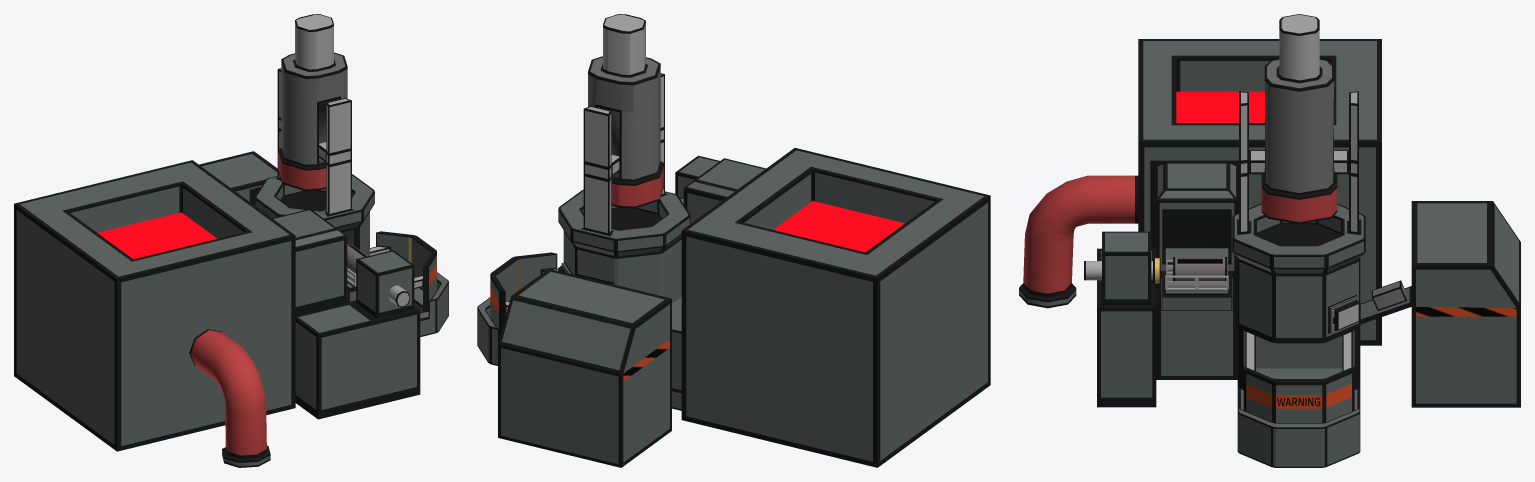
Rendered from Thumper Machine.fbx.
3 renders of one model, left to right at view 1: azimuth 30°, elevation 25°; view 2: azimuth 150°, elevation 25°; view 3: azimuth 270°, elevation 25°, orthographic. The views are drawn at different scales.
Parts seen in each view (by area): view 1: Mould machine, Piston, refinery lava, finished piece tray; view 2: Mould machine, Piston, refinery lava, finished piece tray; view 3: Mould machine, Piston, finished piece tray, Molten pit hatch, refinery lava, Metal containers, Ingot, Piston for insertion.
Boxes of the visible parts, x1,y1,x2,y2 form: Mould machine: (14, 68, 448, 467); Piston: (278, 14, 347, 190); refinery lava: (98, 212, 217, 259); finished piece tray: (370, 231, 436, 312); Mould machine: (477, 73, 990, 467); Piston: (588, 14, 663, 208); refinery lava: (773, 201, 904, 252); finished piece tray: (490, 252, 557, 338); Mould machine: (1019, 39, 1520, 467); Piston: (1261, 14, 1337, 224); finished piece tray: (1243, 331, 1354, 422); Molten pit hatch: (1161, 260, 1232, 310); refinery lava: (1176, 91, 1265, 122); Metal containers: (1173, 257, 1227, 281); Ingot: (1371, 280, 1406, 310); Piston for insertion: (1084, 258, 1160, 283).
Bounding box in the file's own units: 8.19 × 8.67 × 6.7.
